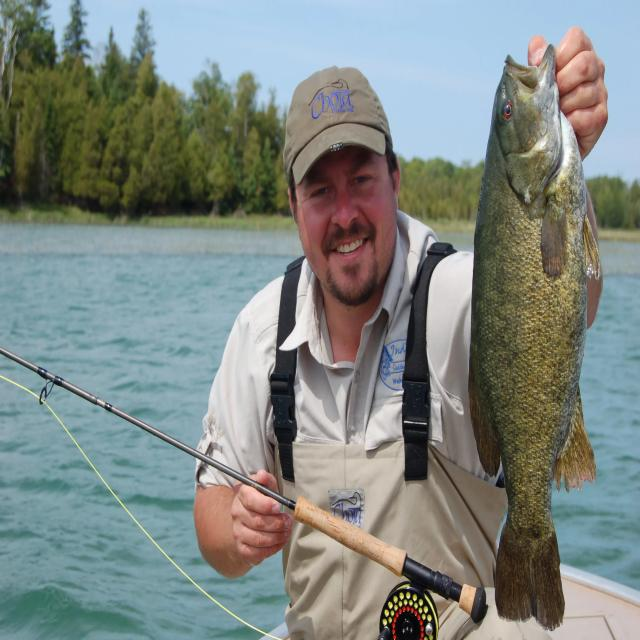Bass - Smallmouth: (469, 45, 601, 630)
